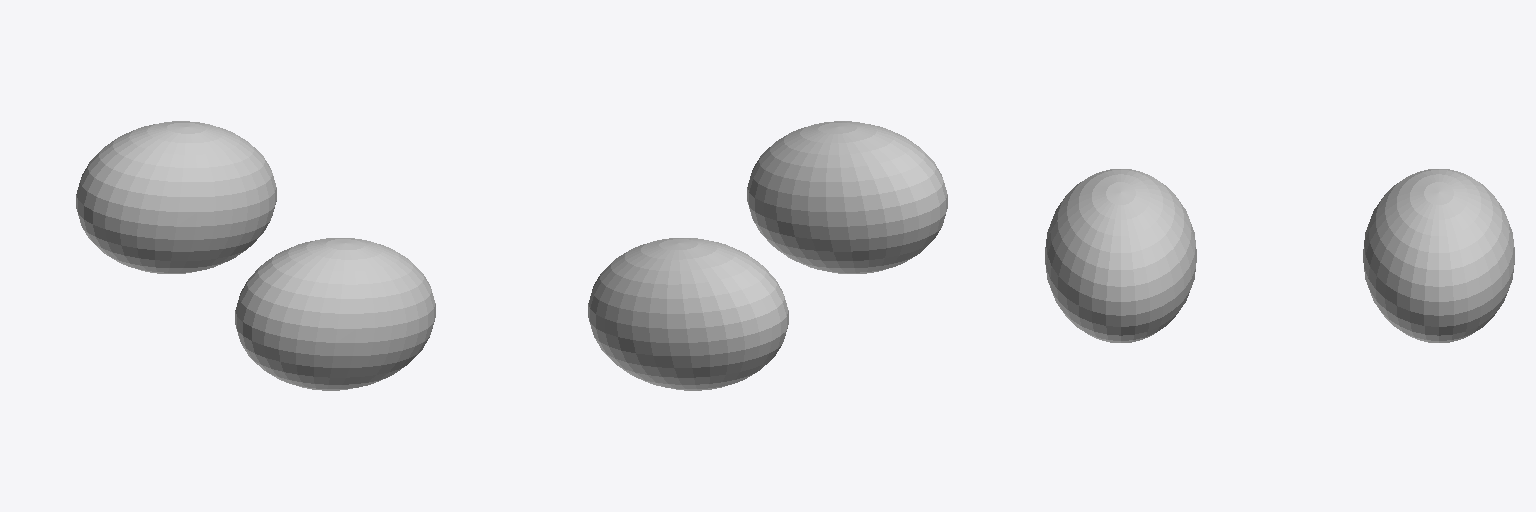
The model's file is moth_eyes.obj.
3 renders of one model, left to right at view 1: azimuth 30°, elevation 25°; view 2: azimuth 150°, elevation 25°; view 3: azimuth 270°, elevation 25°, orthographic.
Parts seen in each view (by area): view 1: Sphere.001_Sphere.006, Sphere.002_Sphere.004; view 2: Sphere.001_Sphere.006, Sphere.002_Sphere.004; view 3: Sphere.002_Sphere.004, Sphere.001_Sphere.006.
Boxes of the visible parts, <box> form: Sphere.001_Sphere.006: <box>235,238,435,390</box>; Sphere.002_Sphere.004: <box>76,121,276,273</box>; Sphere.001_Sphere.006: <box>747,121,947,273</box>; Sphere.002_Sphere.004: <box>588,238,788,390</box>; Sphere.002_Sphere.004: <box>1363,169,1514,342</box>; Sphere.001_Sphere.006: <box>1045,169,1196,342</box>.
Size of the model in its own units: 0.2241 by 0.1618 by 0.493.